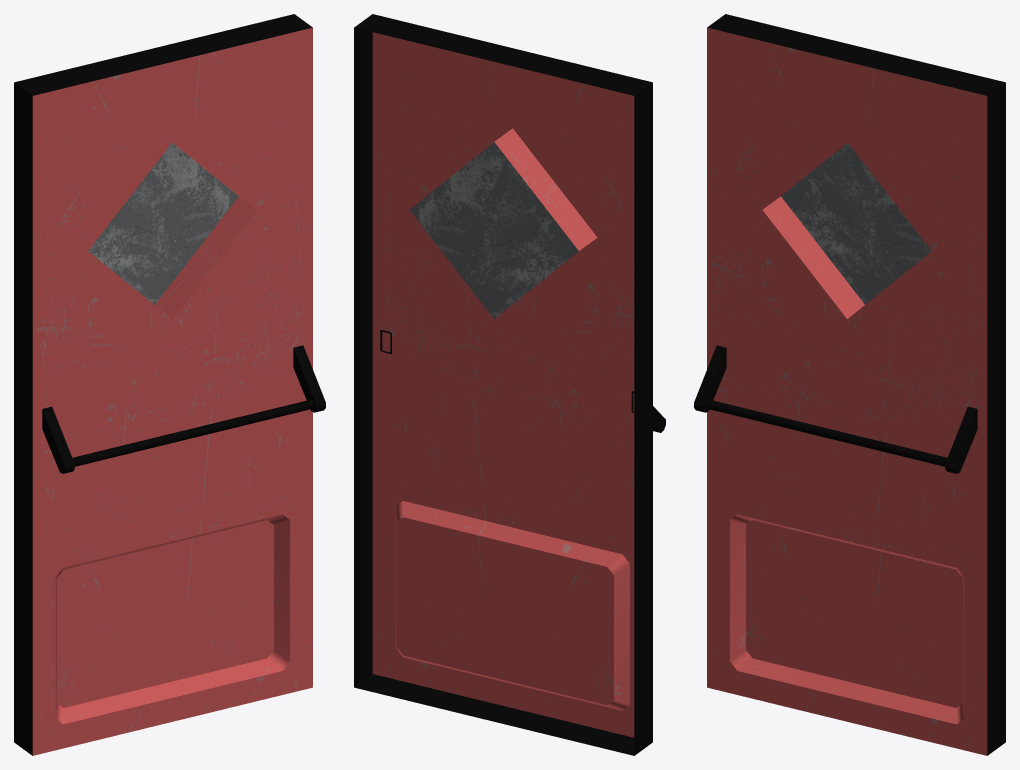
The model's file is SM_Door_Exit.fbx.
3 renders of one model, left to right at view 1: azimuth 30°, elevation 25°; view 2: azimuth 150°, elevation 25°; view 3: azimuth 330°, elevation 25°, orthographic.
Parts seen in each view (by area): view 1: SM_Door_Exit; view 2: SM_Door_Exit; view 3: SM_Door_Exit.
Part boxes in pixels (x1,y1,x2,y2): SM_Door_Exit: (14,14,325,755); SM_Door_Exit: (354,14,665,755); SM_Door_Exit: (694,14,1005,755).
Size of the model in its own units: 100 by 225 by 25.39.
